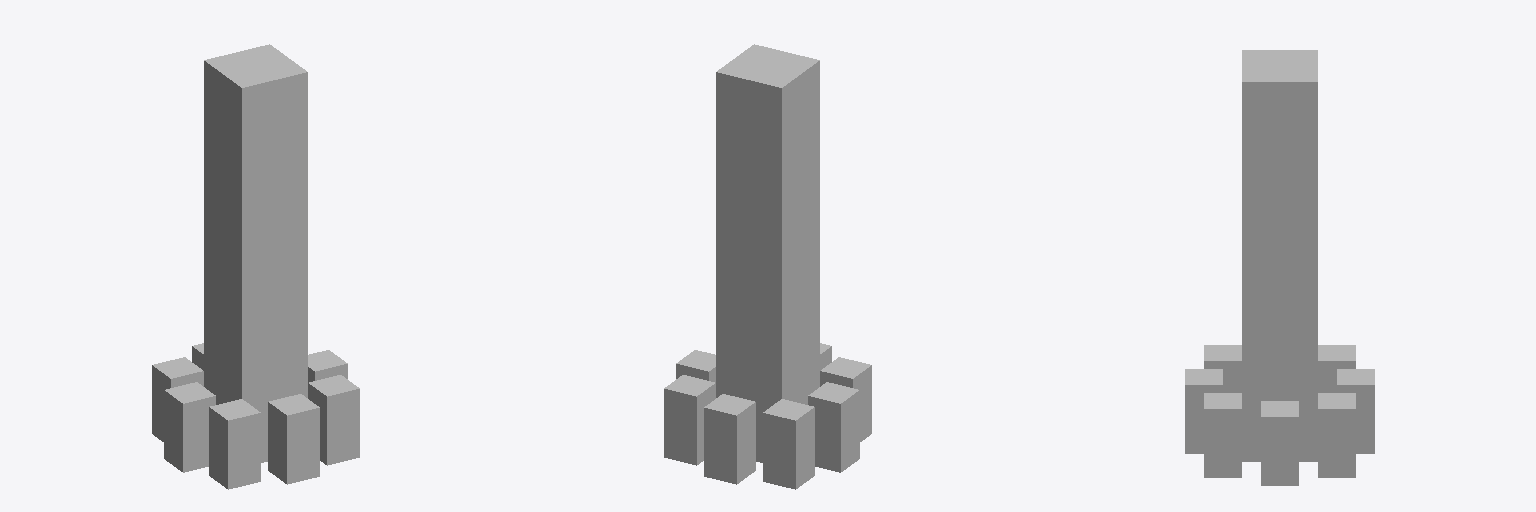
File: centrifugeSpin.obj
3 views of the same model, side by side, from view 1: azimuth 30°, elevation 25°; view 2: azimuth 150°, elevation 25°; view 3: azimuth 270°, elevation 25° (orthographic).
Visible parts, largest first — view 1: cube; view 2: cube; view 3: cube.
Boxes of the visible parts, x1,y1,x2,y2 form: cube: [152, 44, 359, 489]; cube: [664, 44, 871, 489]; cube: [1185, 50, 1374, 485].
Size of the model in its own units: 5 by 11 by 5.